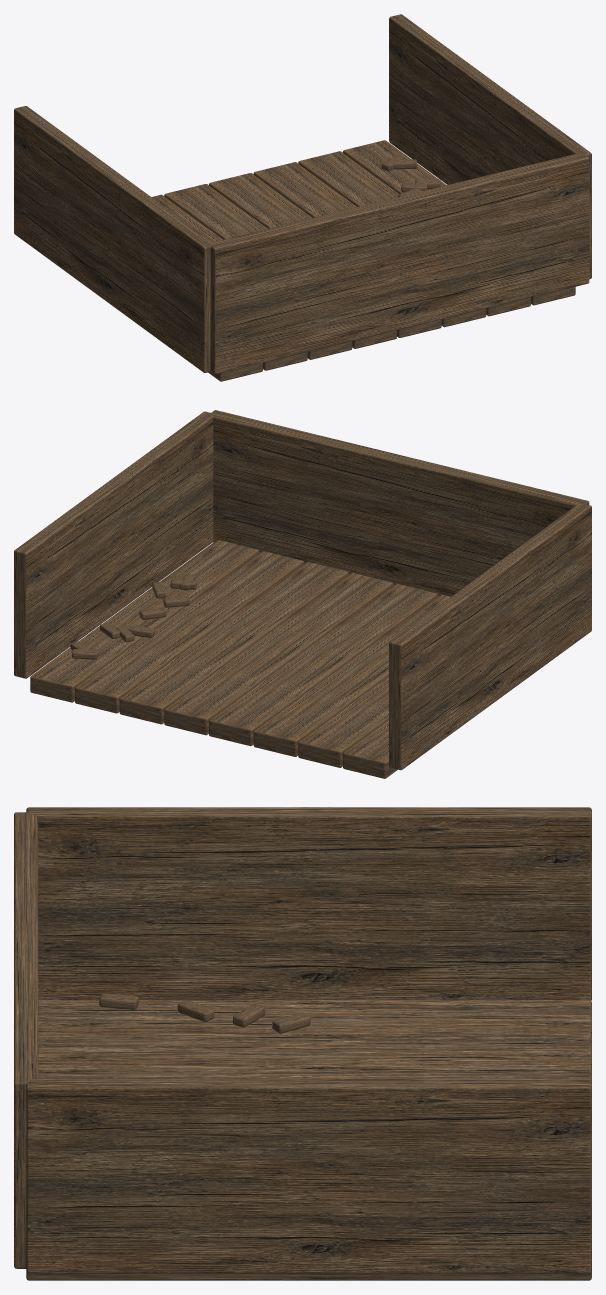
File: fissure_alcove.glb
The picture shows the model from 3 angles, top to bottom: view 1: azimuth 30°, elevation 25°; view 2: azimuth 150°, elevation 25°; view 3: azimuth 270°, elevation 25°; orthographic projection. The views are drawn at different scales.
Parts seen in each view (by area): view 1: fissure_alcove_mesh; view 2: fissure_alcove_mesh; view 3: fissure_alcove_mesh.
Boxes of the visible parts, x1,y1,x2,y2 form: fissure_alcove_mesh: [14, 14, 591, 381]; fissure_alcove_mesh: [14, 410, 591, 778]; fissure_alcove_mesh: [14, 807, 591, 1280].
Bounding box in the file's own units: 4.35 × 1.48 × 3.78.
1 material, 1 textured.
